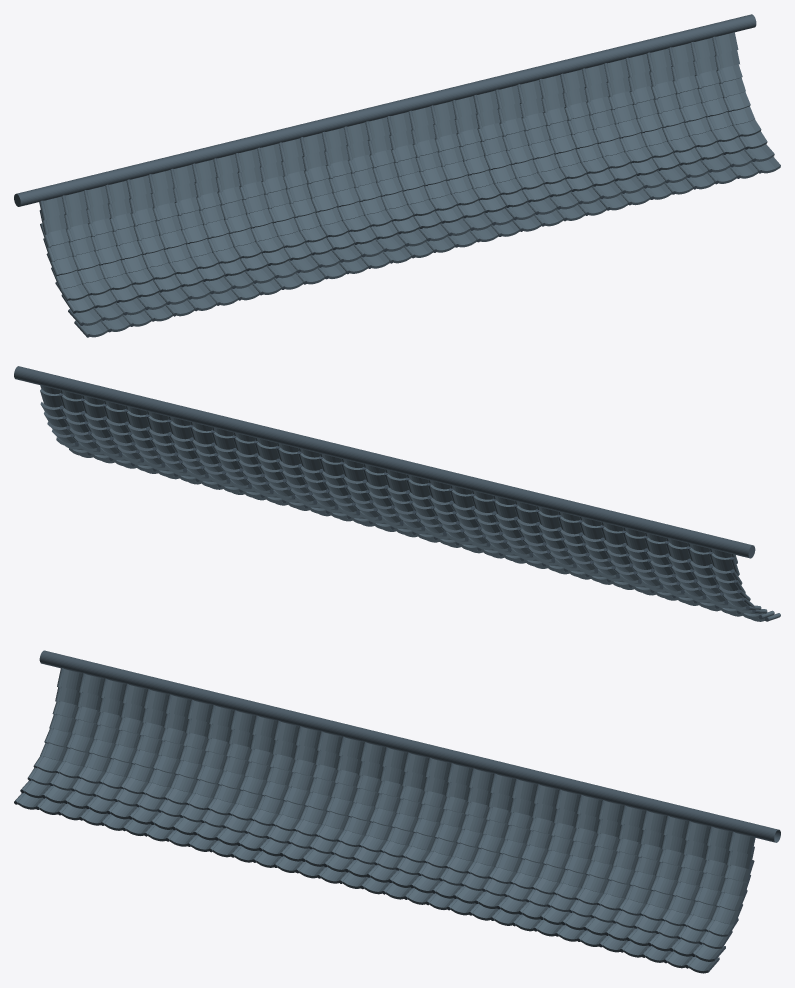
The model's file is select_roof.obj.
3 views of the same model, one above another, from view 1: azimuth 30°, elevation 25°; view 2: azimuth 150°, elevation 25°; view 3: azimuth 330°, elevation 25° (orthographic).
Parts seen in each view (by area): view 1: 円柱.044; view 2: 円柱.044; view 3: 円柱.044.
Boxes of the visible parts, x1,y1,x2,y2 form: 円柱.044: (14, 14, 780, 337); 円柱.044: (14, 366, 780, 621); 円柱.044: (14, 650, 780, 973).
Size of the model in its own units: 315 by 47.13 by 39.15.
1 material, 1 textured.
